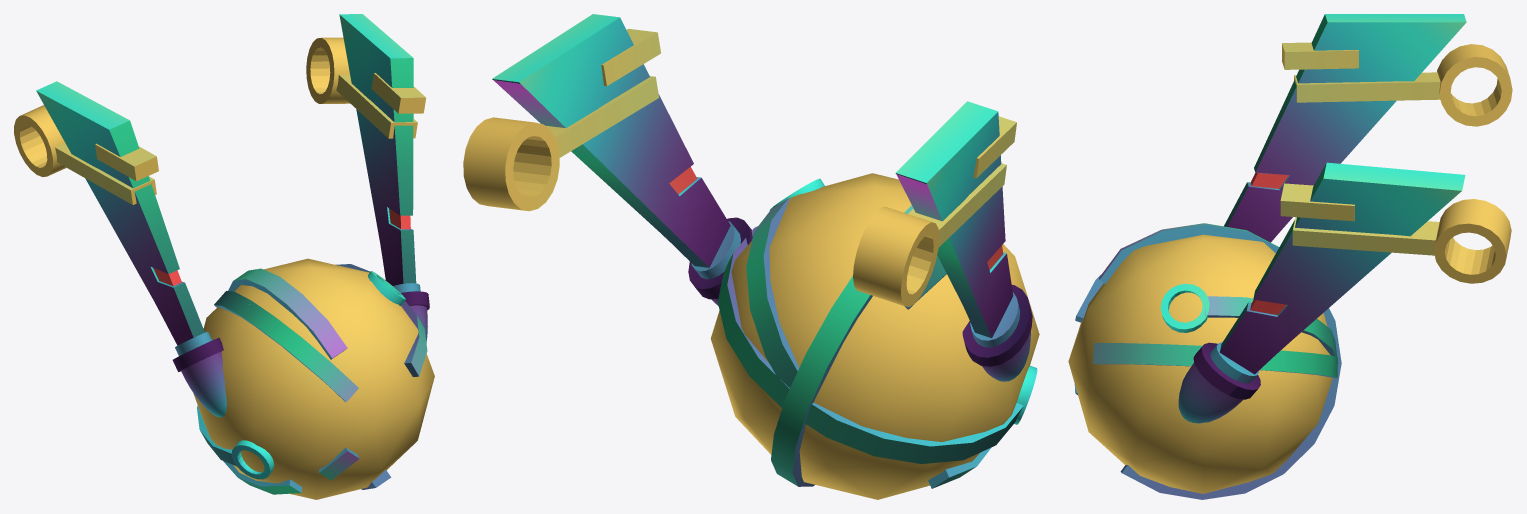
Rendered from Ero.fbx.
3 views of the same model, side by side, from view 1: azimuth 30°, elevation 25°; view 2: azimuth 150°, elevation 25°; view 3: azimuth 270°, elevation 25° (orthographic). The views are drawn at different scales.
Parts seen in each view (by area): view 1: pPlatonic2, pCube4 (×2), pCylinder16, pCylinder15, pCylinder7, pCylinder8, pSphere3, pCylinder10, pCylinder11, pCylinder13, pCylinder4, pCylinder12; view 2: pPlatonic2, pCube4 (×2), pCylinder15, pCylinder16, pCylinder11, pCylinder8, pCylinder10, pCylinder4 (×2), pCylinder14 (×2), pSphere3; view 3: pPlatonic2, pCube4 (×2), pCylinder15, pCylinder16, pCylinder8, pCylinder11, pSphere2, pCylinder10, pCylinder4, pCylinder12, pCylinder14.
Part boxes in pixels (x1,y1,x2,y2): pPlatonic2: (193,258,434,499); pCube4 (×2): (36,14,416,345); pCylinder16: (14,105,158,204); pCylinder15: (306,37,425,138); pCylinder7: (214,291,358,401); pCylinder8: (228,268,391,489); pSphere3: (181,351,226,417); pCylinder10: (223,264,385,494); pCylinder11: (197,301,427,466); pCylinder13: (231,440,274,479); pCylinder4: (172,337,223,371); pCylinder12: (368,271,405,305); pPlatonic2: (710,173,1039,499); pCube4 (×2): (492,14,1013,338); pCylinder15: (463,28,660,211); pCylinder16: (853,116,1016,306); pCylinder11: (717,226,1023,463); pCylinder8: (771,205,913,486); pCylinder10: (746,197,991,488); pCylinder4 (×2): (688,217,1032,366); pCylinder14 (×2): (691,221,1019,347); pSphere3: (981,330,1030,381); pPlatonic2: (1068,234,1332,493); pCube4 (×2): (1220,14,1466,374); pCylinder15: (1280,183,1511,283); pCylinder16: (1282,42,1512,126); pCylinder8: (1098,223,1341,499); pCylinder11: (1093,343,1337,378); pSphere2: (1178,363,1243,423); pCylinder10: (1074,296,1337,394); pCylinder4: (1193,342,1260,399); pCylinder12: (1160,283,1209,332); pCylinder14: (1210,342,1259,383).
Size of the model in its own units: 3.12 by 3.22 by 3.29.
